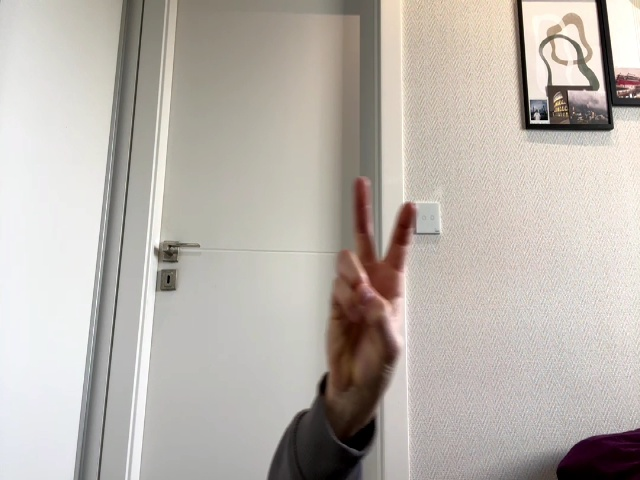H: (328, 178, 417, 396)
